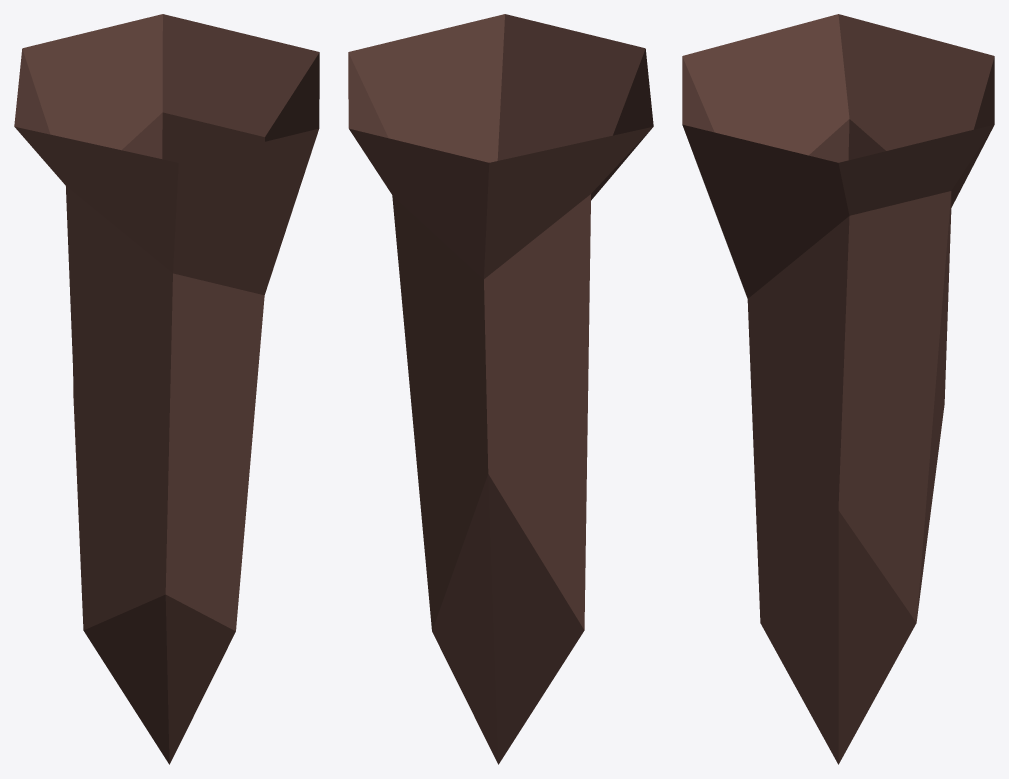
The model's file is Stalacmite-A06.fbx.
3 renders of one model, left to right at view 1: azimuth 30°, elevation 25°; view 2: azimuth 150°, elevation 25°; view 3: azimuth 270°, elevation 25°, orthographic.
Visible parts, largest first — view 1: Stalacmite-A06; view 2: Stalacmite-A06; view 3: Stalacmite-A06.
Part boxes in pixels (x1=…): Stalacmite-A06: x1=14, y1=14, x2=319, y2=764; Stalacmite-A06: x1=348, y1=14, x2=653, y2=764; Stalacmite-A06: x1=682, y1=14, x2=994, y2=764.
Bounding box in the file's own units: 101 × 213 × 89.41.
